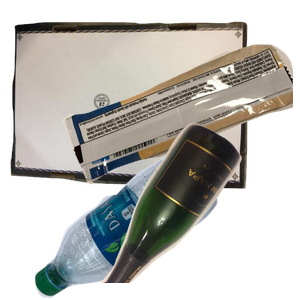cardboard: (10, 19, 250, 199)
glass: (87, 120, 300, 300)
plastic: (32, 154, 242, 300)
trash: (60, 42, 300, 219)
